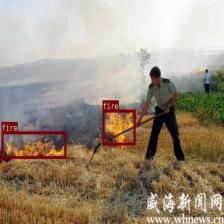fire: (1, 131, 66, 158), (102, 109, 135, 144)
